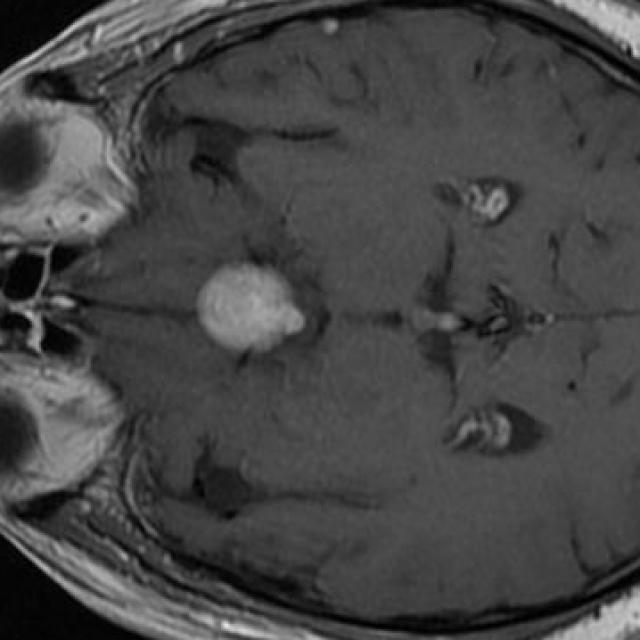pituitary: (198, 266, 305, 351)
